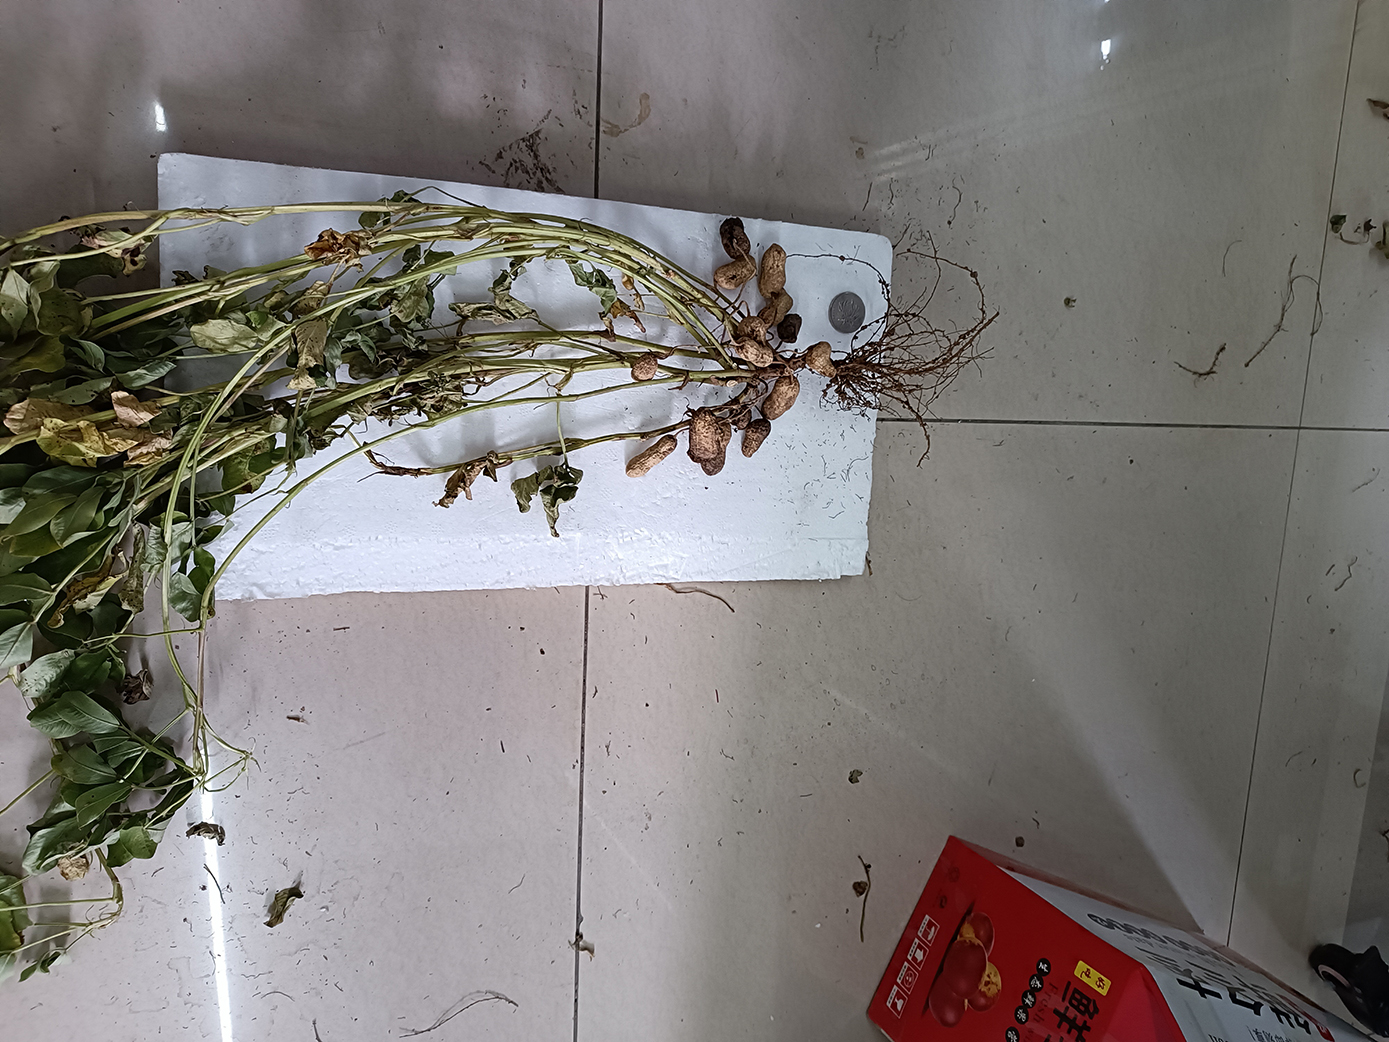h: (625, 435, 678, 479), (762, 375, 800, 421), (688, 407, 718, 459), (759, 242, 786, 297), (713, 256, 757, 289), (805, 340, 837, 378), (759, 296, 792, 329), (737, 337, 773, 368), (630, 354, 658, 380)
l: (702, 417, 732, 476), (719, 215, 750, 259), (742, 418, 771, 458), (777, 313, 802, 343), (736, 406, 751, 430)
